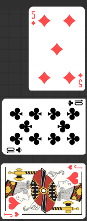10C: (5, 146, 23, 154)
9D: (77, 72, 83, 89), (30, 10, 36, 27)
